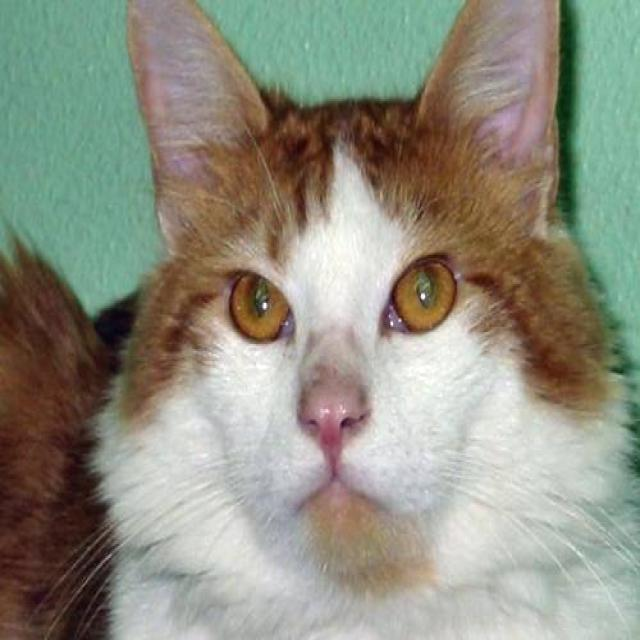Kucing: (45, 38, 640, 580)
